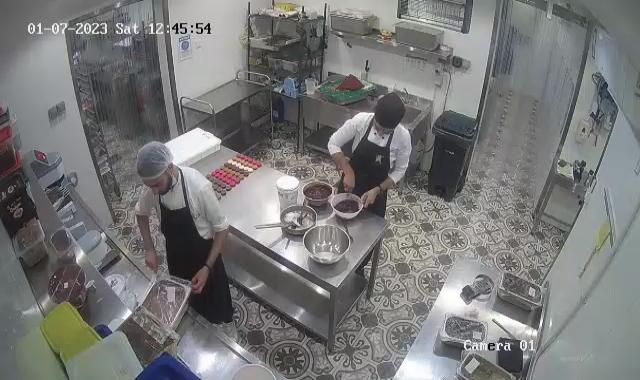hairnet: (134, 141, 174, 182)
no_hairnet: (373, 91, 405, 134)
